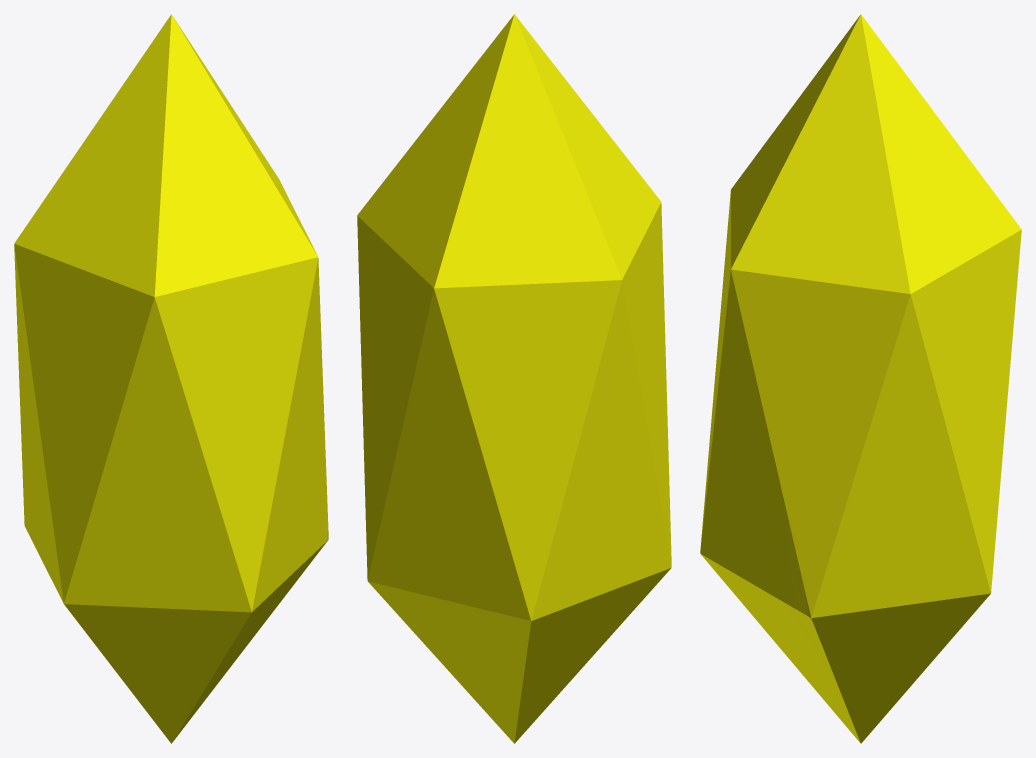
File: flama.obj
3 views of the same model, side by side, from view 1: azimuth 30°, elevation 25°; view 2: azimuth 150°, elevation 25°; view 3: azimuth 270°, elevation 25° (orthographic).
Parts seen in each view (by area): view 1: Icosphere.023; view 2: Icosphere.023; view 3: Icosphere.023.
Boxes of the visible parts, <box> form: Icosphere.023: <box>14,14,328,743</box>; Icosphere.023: <box>357,14,671,743</box>; Icosphere.023: <box>700,14,1021,743</box>.
Bounding box in the file's own units: 0.0123 × 0.0323 × 0.0129.
Materials: 1 (1 with a texture image).
